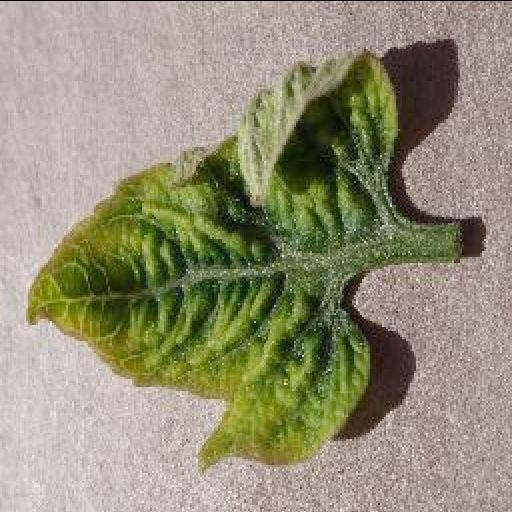disease_tomato: (26, 46, 400, 470)
